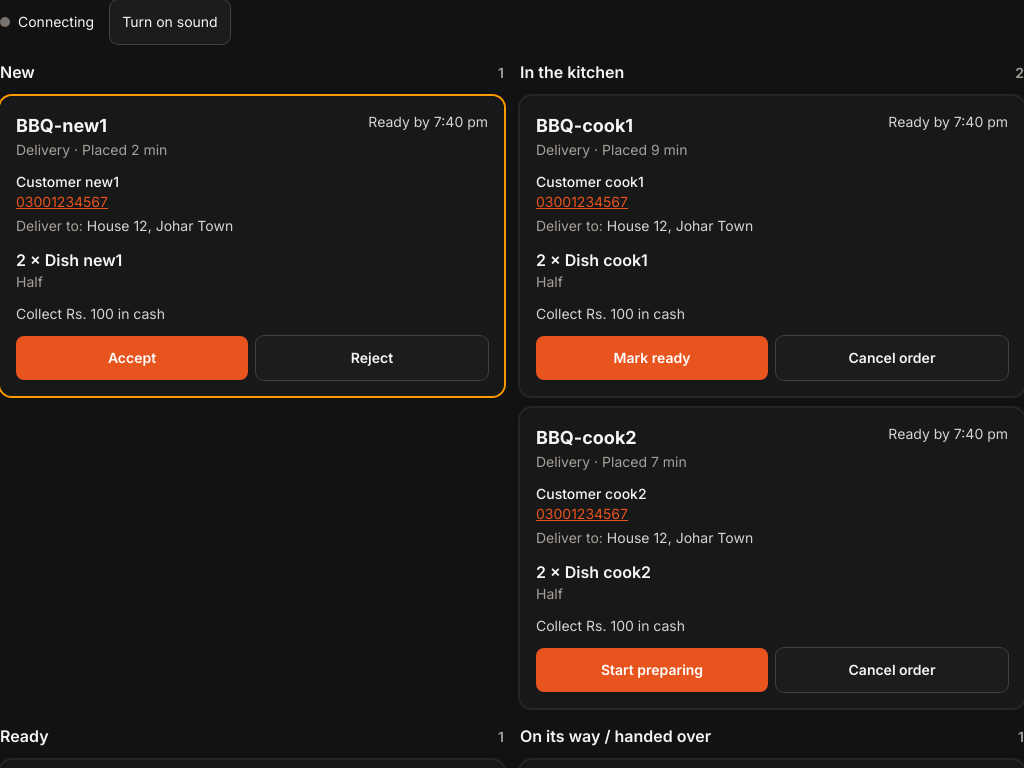
Test: the order board › moving an order › locks only the order being saved, so other orders can still be worked on
Expected: the heading "BBQ-new1" is shown, [16, 115, 107, 136]
Click the button "Accept" at coordinates (132, 358), box [16, 336, 248, 380]
(page scrolled)
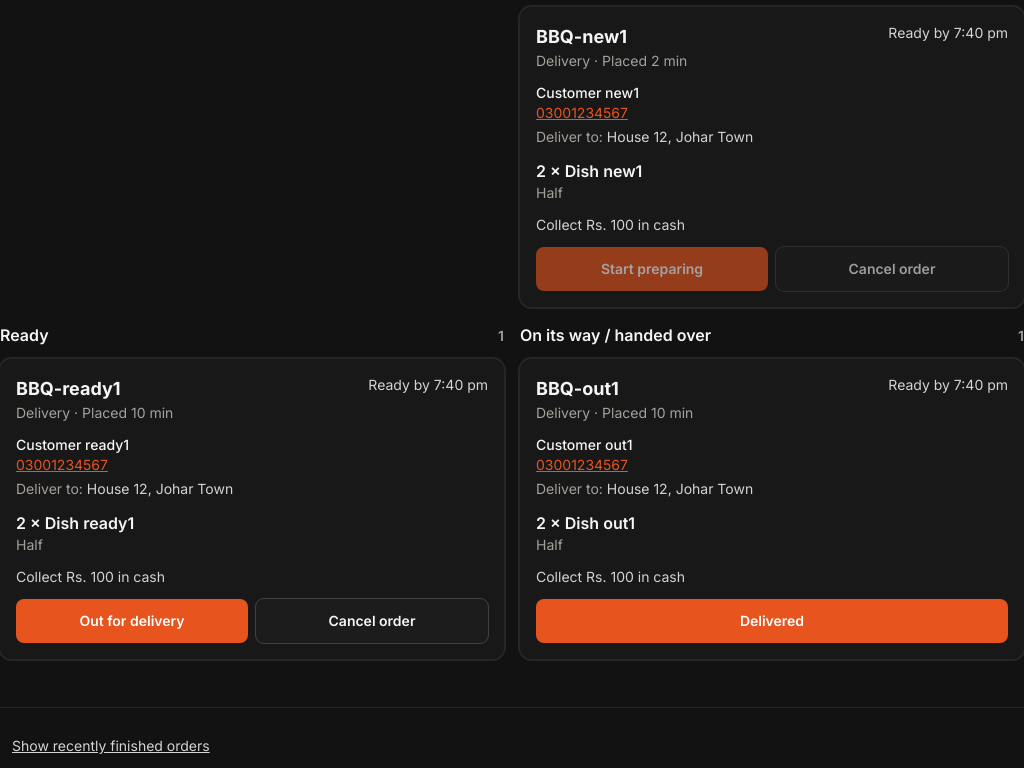
Expected: the button "Out for delivery" is enabled, [16, 599, 248, 643]
Now the button "Start preparing" is disabled, box [536, 247, 768, 291]
Now the button "Cancel order" below "BBQ-new1" is disabled, box [776, 247, 1008, 291]
